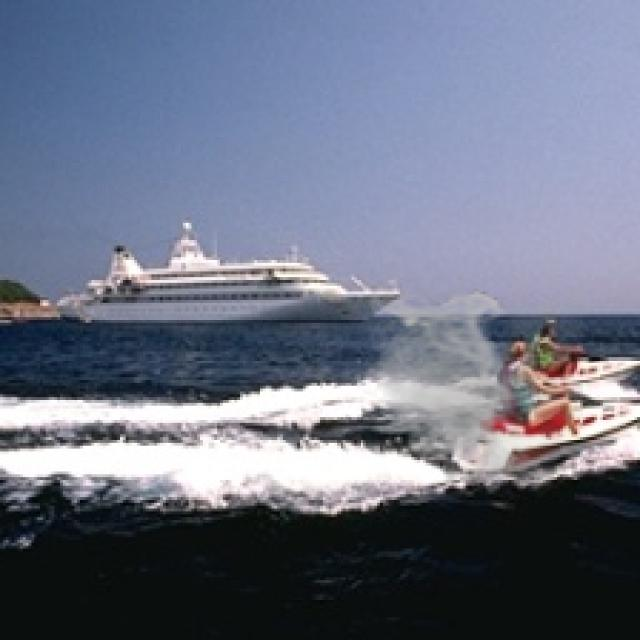smoke: (363, 286, 583, 497)
